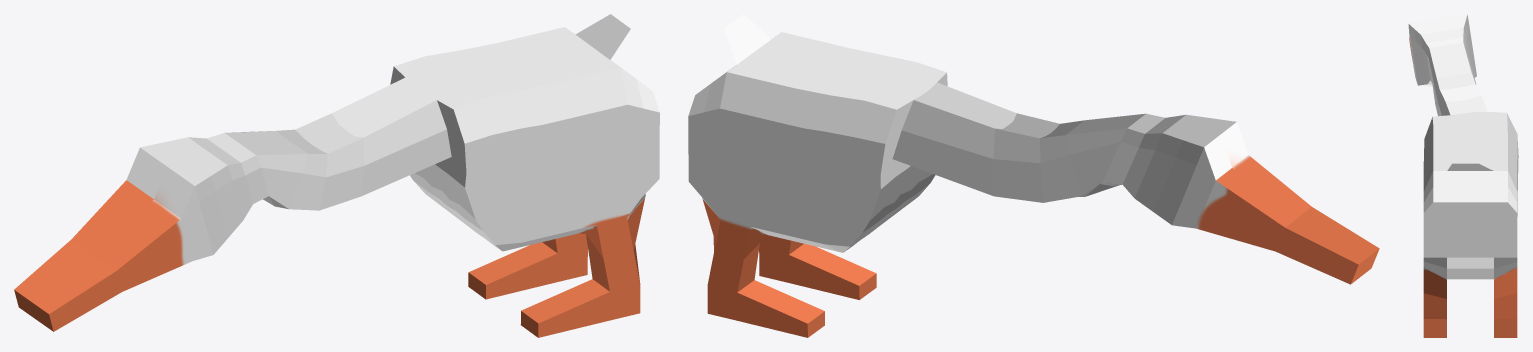
Rendered from goose.glb.
3 views of the same model, side by side, from view 1: azimuth 30°, elevation 25°; view 2: azimuth 150°, elevation 25°; view 3: azimuth 270°, elevation 25° (orthographic). The views are drawn at different scales.
Visible parts, largest first — view 1: Cube; view 2: Cube; view 3: Cube.
Part boxes in pixels (x1,y1,x2,y2): Cube: [14, 14, 659, 337]; Cube: [688, 14, 1379, 337]; Cube: [1408, 14, 1518, 337].
Size of the model in its own units: 10.43 by 4.2 by 2.35.
1 material, 1 textured.
